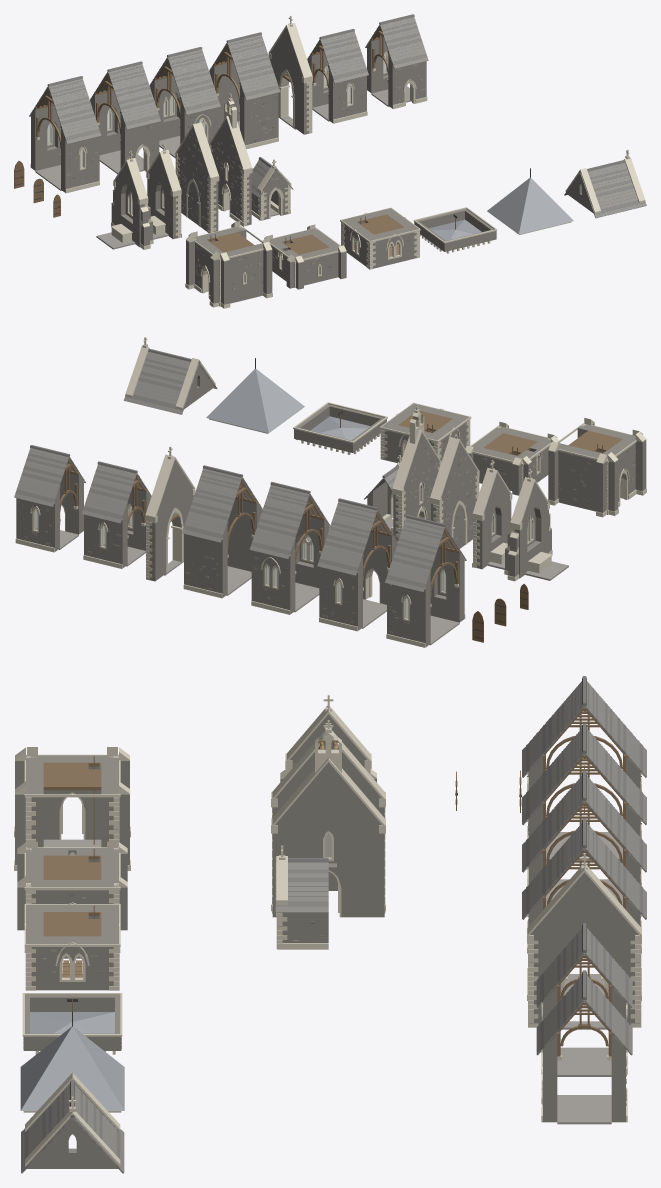
Rendered from church-kit-pennant.glb.
3 views of the same model, one above another, from view 1: azimuth 30°, elevation 25°; view 2: azimuth 150°, elevation 25°; view 3: azimuth 270°, elevation 25° (orthographic). The views are drawn at different scales.
Visible parts, largest first — view 1: rubble (×17), dress (×11), roof (×7), roof2 (×7), timber (×7), lead (×2), floor; view 2: rubble (×17), dress (×15), roof (×7), roof2 (×7), timber (×7), lead (×2), floor (×4); view 3: rubble (×11), roof (×8), dress (×10), roof2 (×8), timber (×8), lead (×2), floor (×2).
Boxes of the visible parts, x1,y1,x2,y2 form: rubble (×17): (31, 27, 593, 304); dress (×11): (111, 15, 645, 308); roof (×7): (29, 17, 646, 218); roof2 (×7): (30, 14, 645, 214); timber (×7): (34, 44, 404, 256); lead (×2): (429, 177, 573, 240); floor: (99, 150, 144, 173); rubble (×17): (16, 365, 646, 646); dress (×15): (15, 337, 646, 647); roof (×7): (14, 351, 466, 592); roof2 (×7): (15, 348, 465, 587); timber (×7): (227, 411, 622, 596); lead (×2): (206, 369, 370, 440); floor (×4): (226, 566, 459, 645); rubble (×11): (15, 714, 640, 1168); roof (×8): (21, 681, 646, 1173); dress (×10): (14, 694, 641, 1166); roof2 (×8): (24, 676, 643, 1169); timber (×8): (43, 706, 628, 1056); lead (×2): (20, 1012, 124, 1110); floor (×2): (557, 1047, 611, 1124).
Bounding box in the file's own units: 53.9 × 13.64 × 39.56.
